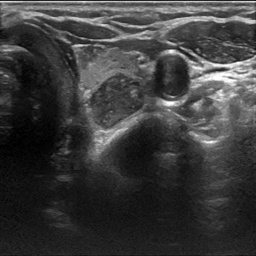mass: (87, 73, 146, 127)
